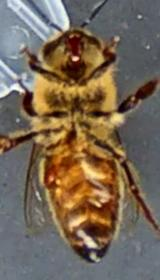varroa_mite: (32, 150, 66, 190)
